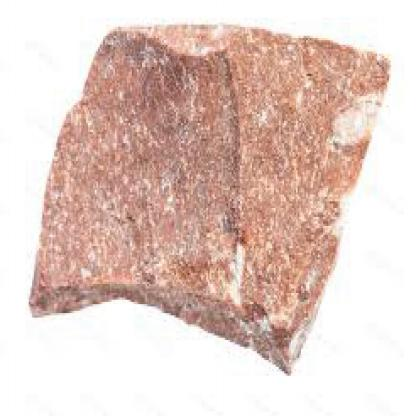Metamorphic_Marble: (18, 18, 406, 364)
